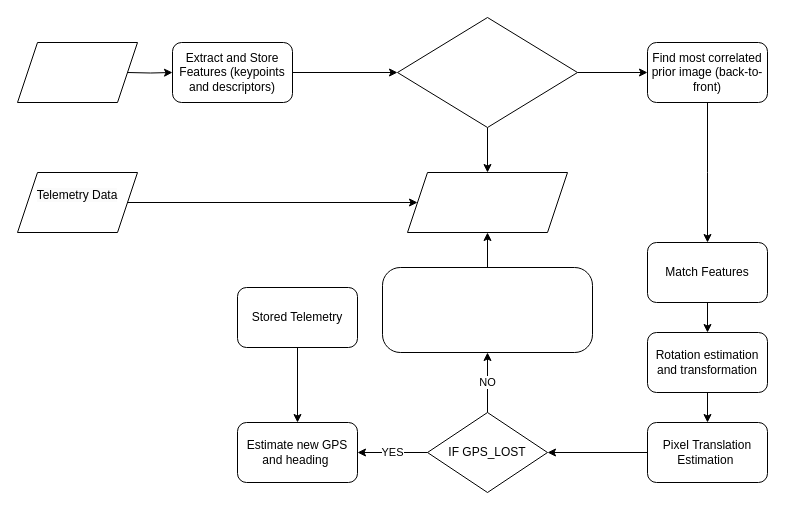
This 785x510 diagram has some shape labels left out. Each missing label, with the centre of its shape:
"Extract and Store Telemetry Data (GPS and heading)" belongs at point 487,202.
"IF GPS_LOST OR INFER_GPS_TO_PIXEL" belongs at point 487,72.
"Image" belongs at point 77,72.
"Infer lowest MSE GPS_TO_PIXEL factor" belongs at point 487,309.
